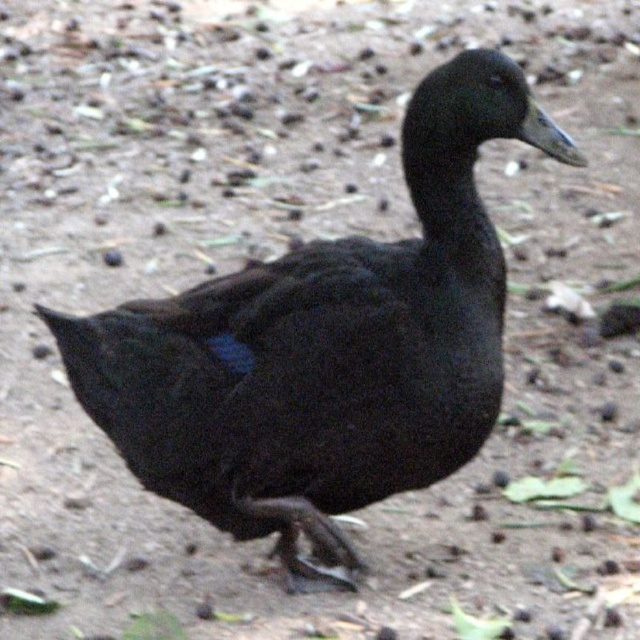Duck: (34, 54, 585, 596)
